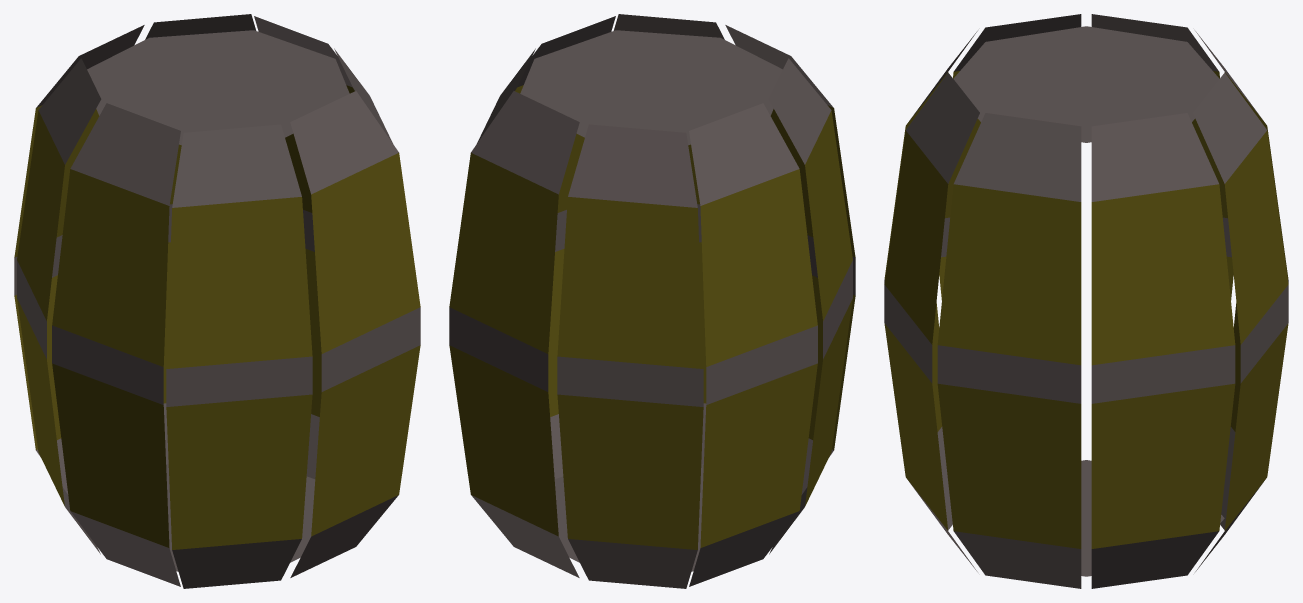
File: gfx_239.obj
3 renders of one model, left to right at view 1: azimuth 30°, elevation 25°; view 2: azimuth 150°, elevation 25°; view 3: azimuth 270°, elevation 25°, orthographic.
Bounding box in the file's own units: 0.5781 × 0.75 × 0.5938.
